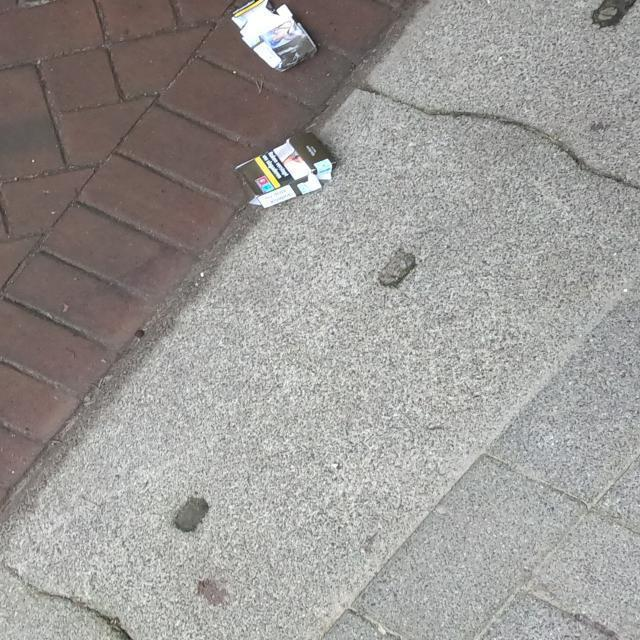Paper: (233, 130, 339, 212), (228, 0, 320, 74)
